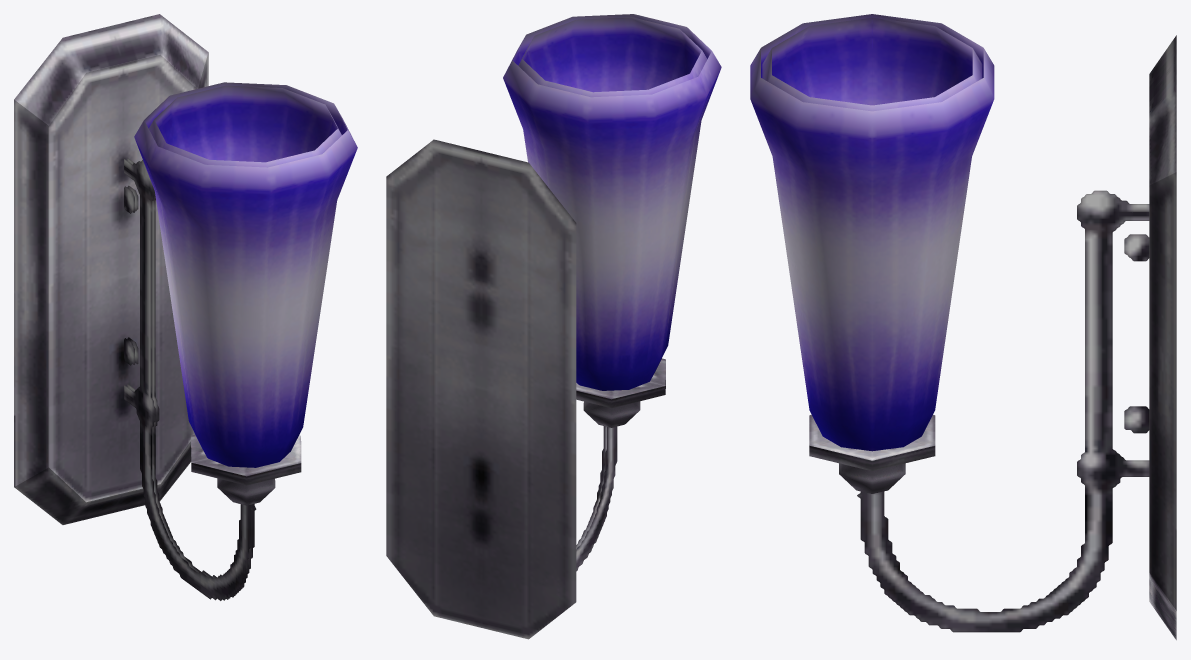
The model's file is furni_0201100.FBX.
The picture shows the model from 3 angles, left to right: view 1: azimuth 30°, elevation 25°; view 2: azimuth 150°, elevation 25°; view 3: azimuth 270°, elevation 25°; orthographic projection. The views are drawn at different scales.
Visible parts, largest first — view 1: furni_0201100; view 2: furni_0201100; view 3: furni_0201100.
Part boxes in pixels (left/top/right/bottom): furni_0201100: left=14, top=14, right=357, bottom=600; furni_0201100: left=386, top=14, right=721, bottom=639; furni_0201100: left=750, top=14, right=1176, bottom=640.
Size of the model in its own units: 20.71 by 52.3 by 34.72.
Materials: 1 (1 with a texture image).
